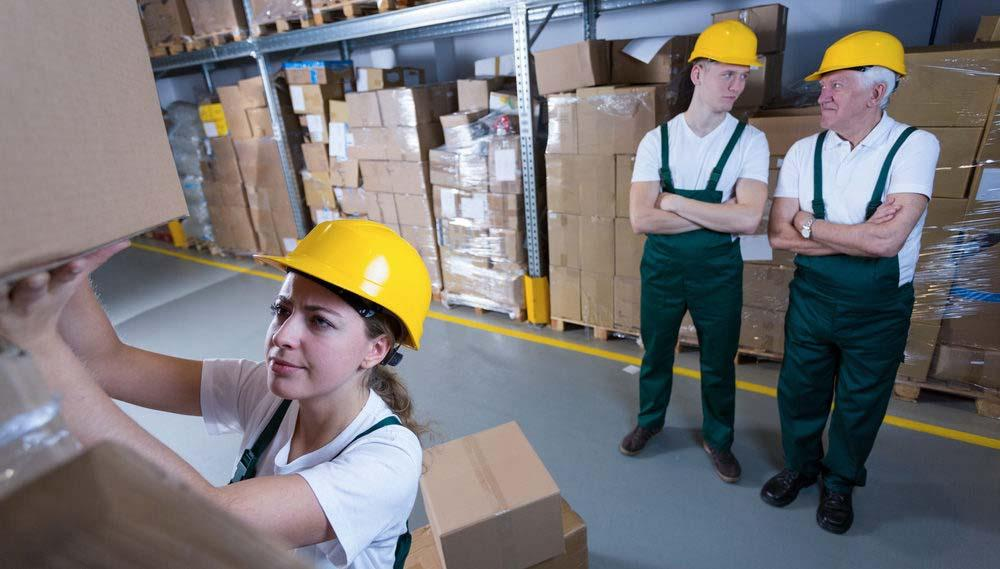helmet: (256, 219, 423, 354), (807, 31, 911, 79), (691, 19, 763, 69)
